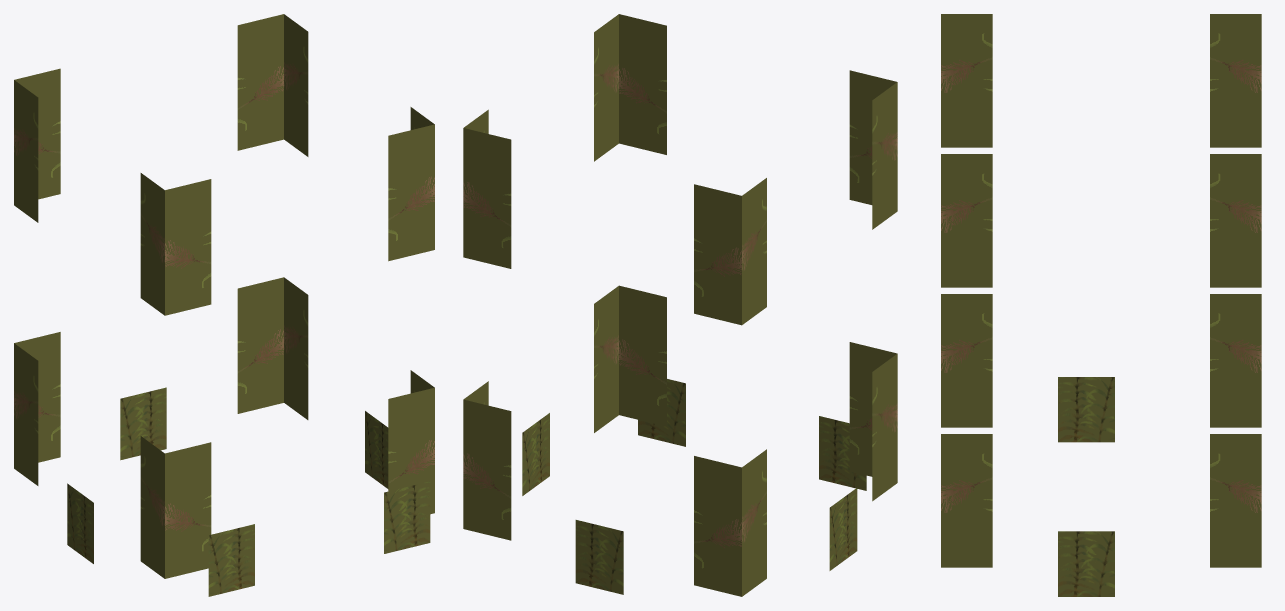
File: wood_tower_f.dae
3 renders of one model, left to right at view 1: azimuth 30°, elevation 25°; view 2: azimuth 150°, elevation 25°; view 3: azimuth 270°, elevation 25°, orthographic. The views are drawn at different scales.
Parts seen in each view (by area): view 1: wooder_tower_f; view 2: wooder_tower_f; view 3: wooder_tower_f.
Part boxes in pixels (x1,y1,x2,y2): wooder_tower_f: [14, 14, 434, 596]; wooder_tower_f: [463, 14, 897, 596]; wooder_tower_f: [941, 14, 1261, 596].
Bounding box in the file's own units: 6.88 × 6.49 × 9.07.
